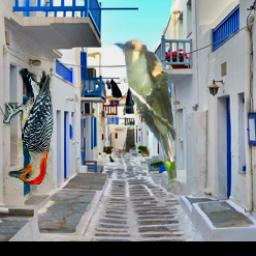Cuckoo: (110, 36, 180, 188)
Woodpecker: (4, 68, 55, 184)
